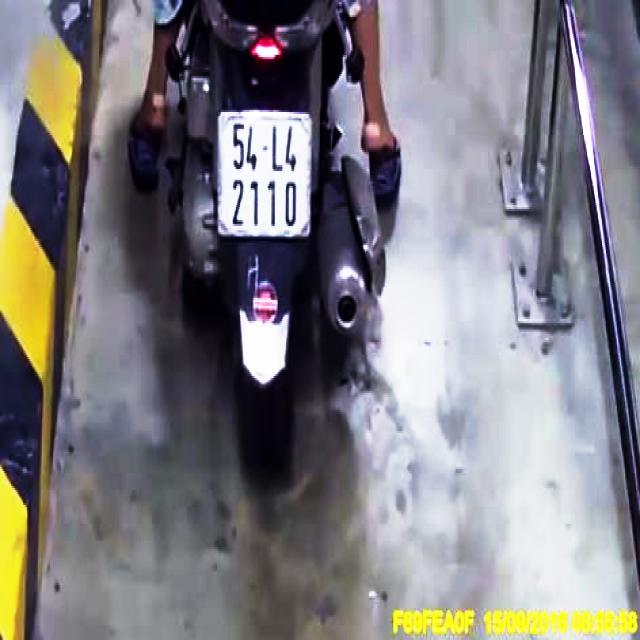license_plate: (219, 112, 312, 241)
